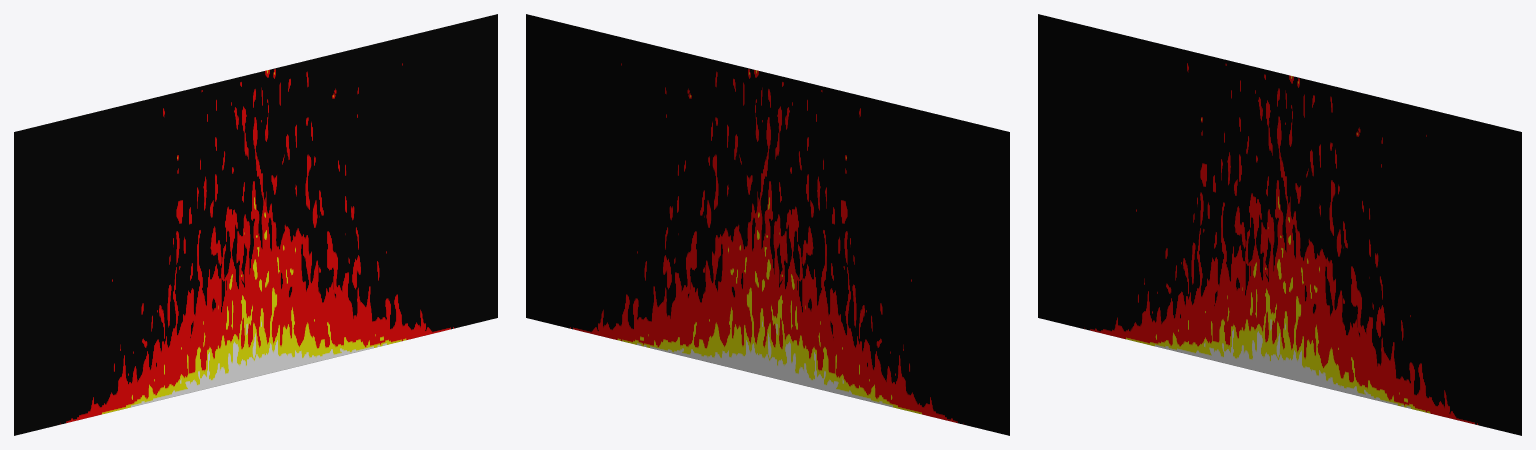
File: Fire-card.fbx
3 views of the same model, side by side, from view 1: azimuth 30°, elevation 25°; view 2: azimuth 150°, elevation 25°; view 3: azimuth 330°, elevation 25° (orthographic).
Parts seen in each view (by area): view 1: 平面; view 2: 平面; view 3: 平面.
Boxes of the visible parts, <box> form: 平面: <box>14,14,497,435</box>; 平面: <box>526,14,1009,435</box>; 平面: <box>1038,14,1521,435</box>.
Bounding box in the file's own units: 200 × 120 × 1.78e-05.
